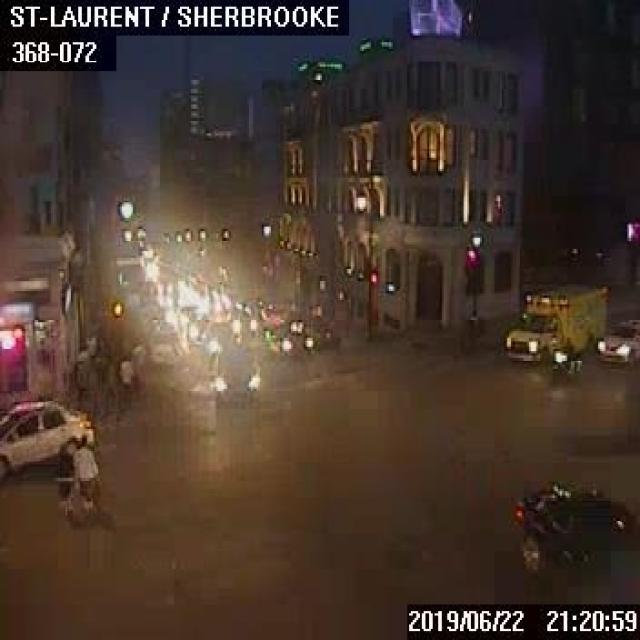pedestrian: (73, 433, 99, 512), (55, 433, 74, 513), (116, 350, 130, 409)
vehicle: (509, 482, 638, 598), (502, 281, 608, 362), (0, 398, 93, 473), (194, 341, 258, 397), (595, 316, 638, 366), (265, 316, 313, 358), (549, 334, 580, 381), (202, 319, 237, 354), (224, 305, 254, 337)
